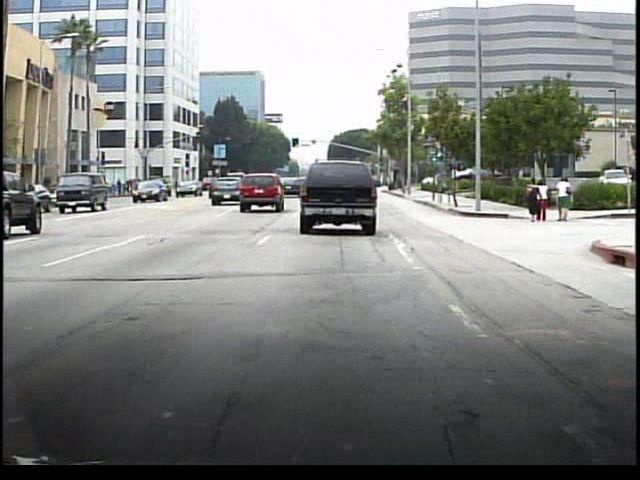person: (553, 175, 572, 223), (524, 175, 539, 224), (537, 180, 550, 224)
